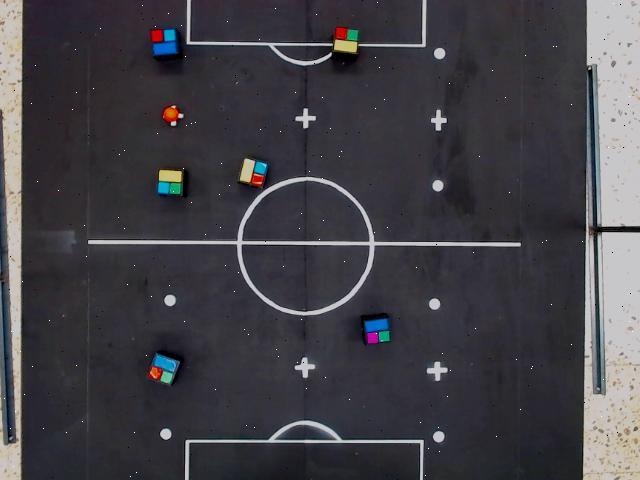robot: (145, 350, 182, 389), (236, 154, 271, 190), (148, 27, 180, 59), (331, 24, 361, 56), (155, 166, 185, 198), (361, 316, 393, 346)
